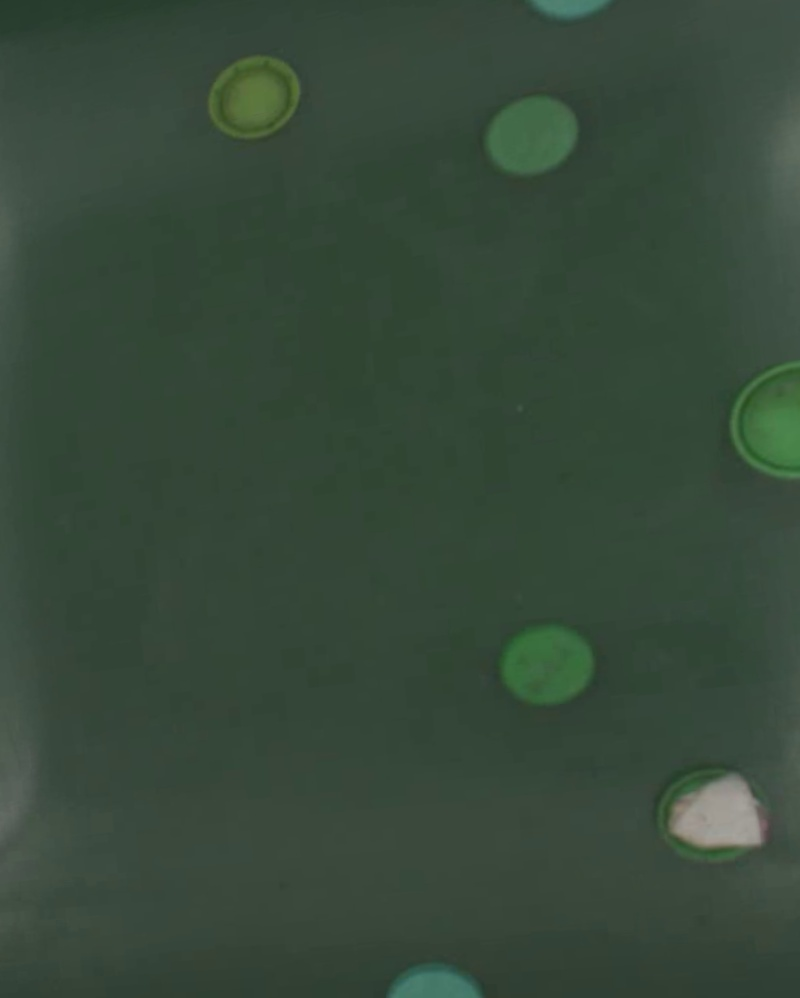Others: (652, 766, 773, 863), (723, 350, 800, 488), (204, 47, 307, 148), (479, 90, 584, 185), (495, 622, 601, 711), (380, 960, 491, 998)
